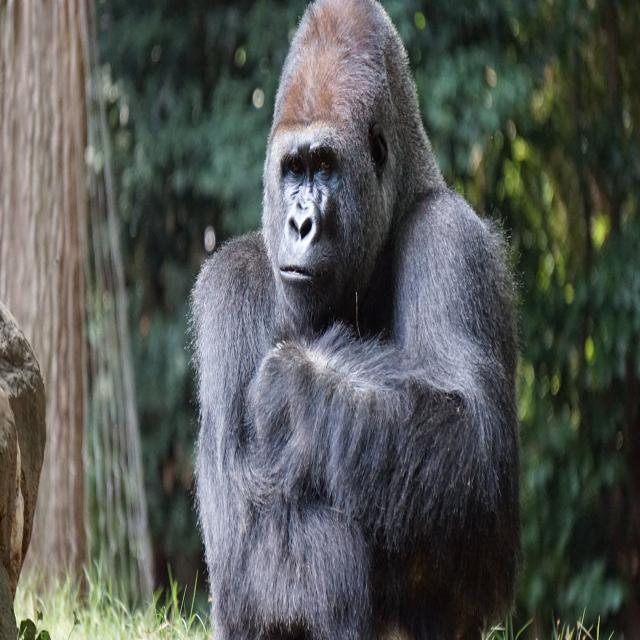Gorilla: (189, 0, 522, 640)
